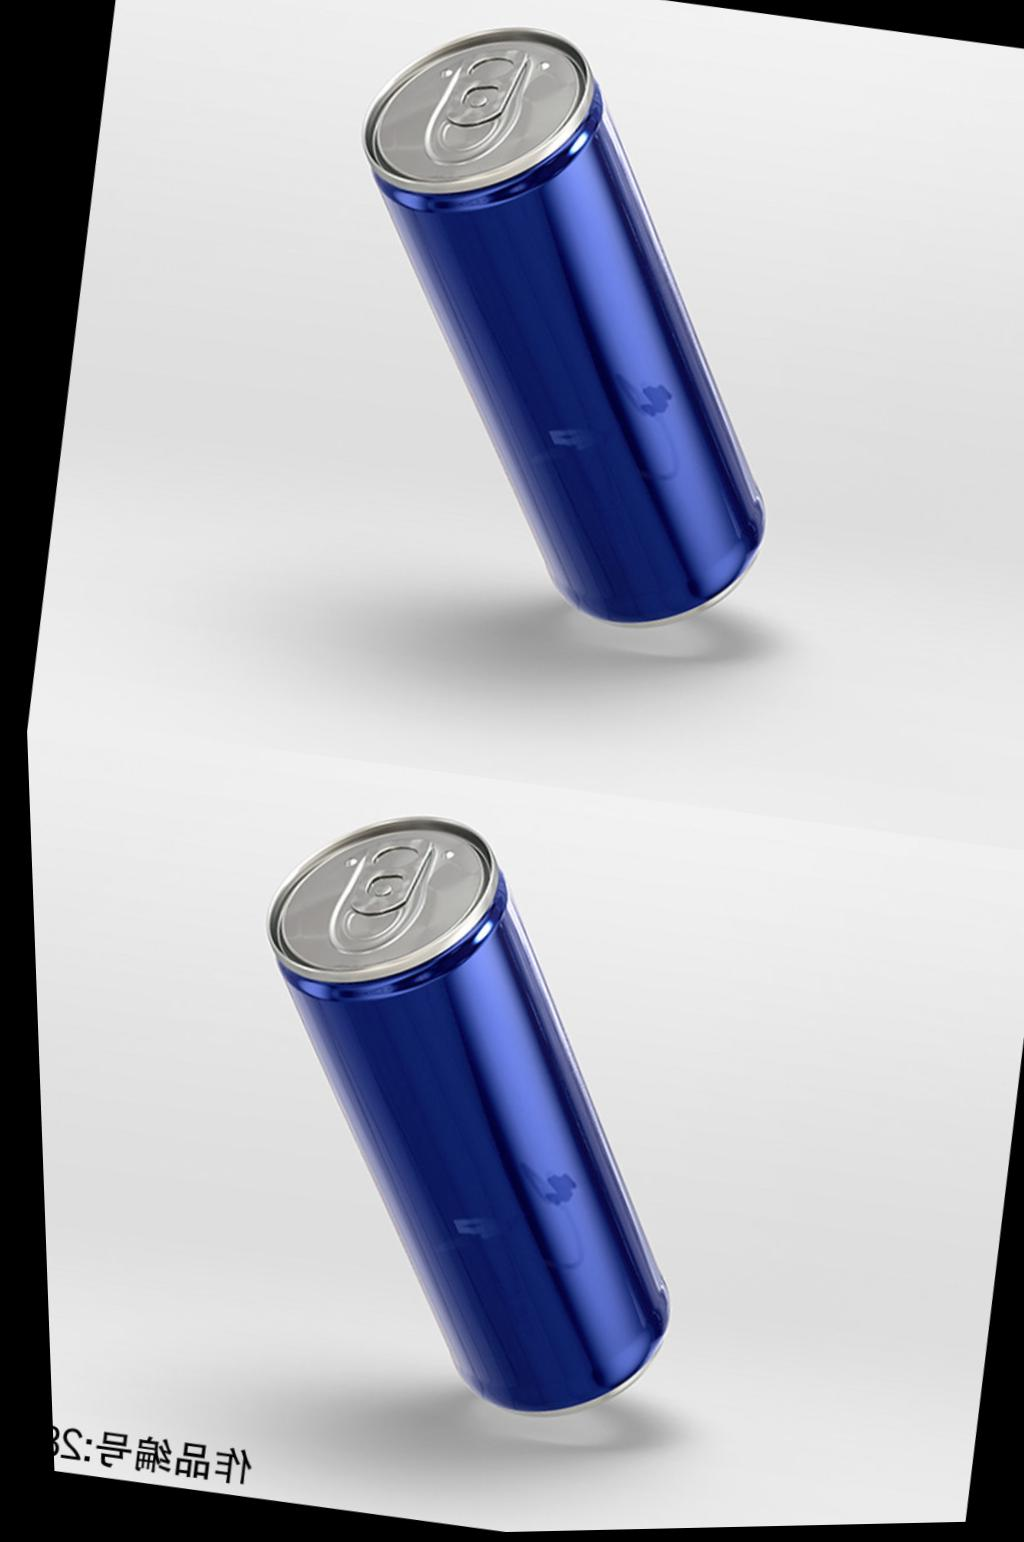metal: (365, 29, 762, 623), (270, 818, 666, 1411)
